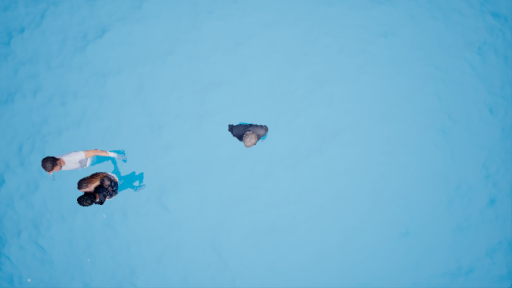person: (64, 168, 157, 212), (37, 143, 132, 173), (223, 107, 271, 153)
